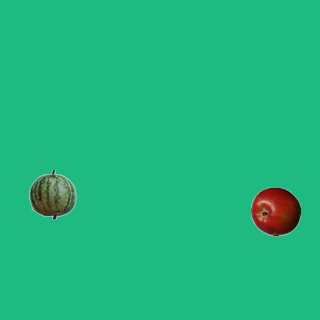Apple Braeburn: (250, 186, 300, 236)
Watermelon: (27, 169, 77, 219)
